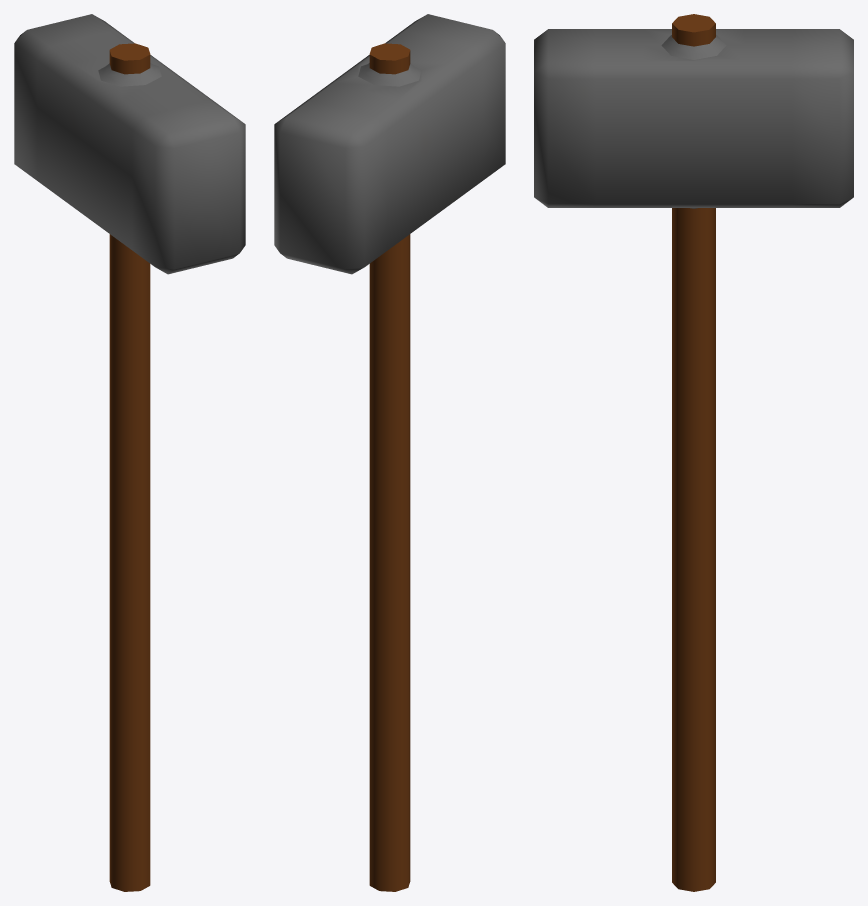
The model's file is Hammer.fbx.
3 views of the same model, side by side, from view 1: azimuth 30°, elevation 25°; view 2: azimuth 150°, elevation 25°; view 3: azimuth 270°, elevation 25° (orthographic). The views are drawn at different scales.
Visible parts, largest first — view 1: Cylinder; view 2: Cylinder; view 3: Cylinder.
Boxes of the visible parts, x1=… form: Cylinder: x1=14, y1=14, x2=245, y2=891; Cylinder: x1=274, y1=14, x2=505, y2=891; Cylinder: x1=534, y1=14, x2=853, y2=891.
Bounding box in the file's own units: 0.1483 × 0.4386 × 1.3.
